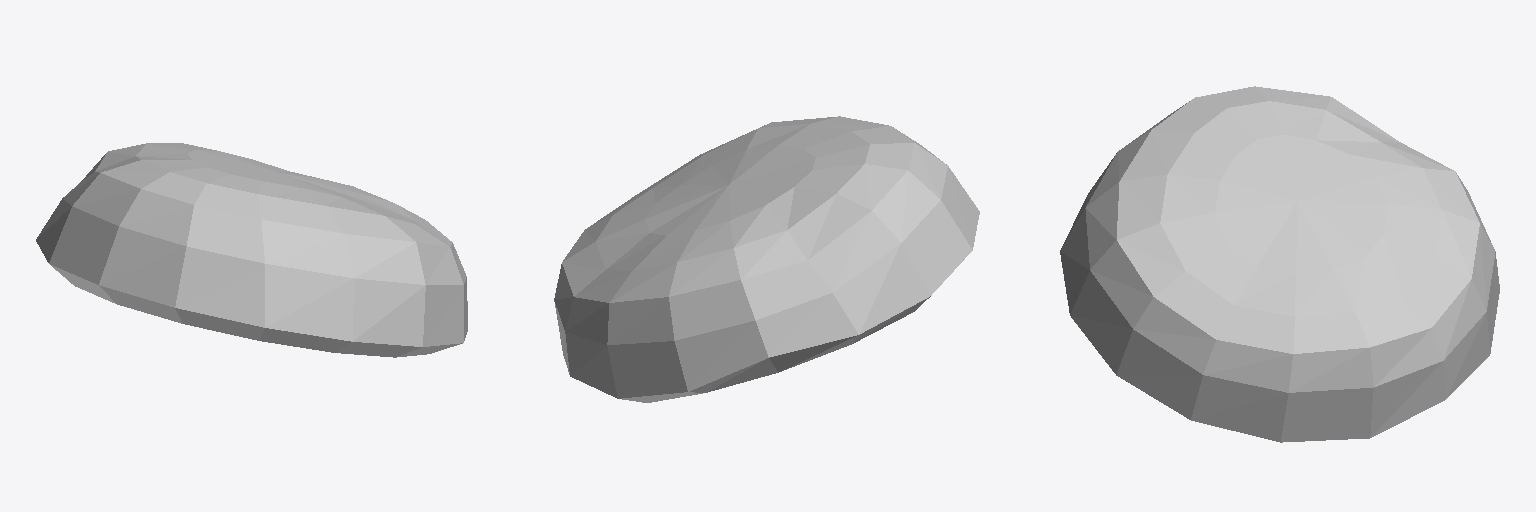
The model's file is shroomTop3.obj.
The picture shows the model from 3 angles: view 1: azimuth 30°, elevation 25°; view 2: azimuth 150°, elevation 25°; view 3: azimuth 270°, elevation 25°; orthographic projection.
Parts seen in each view (by area): view 1: shroomTop3; view 2: shroomTop3; view 3: shroomTop3.
Boxes of the visible parts, box(x1,y1,x2,y2) form: shroomTop3: box(36, 143, 467, 357); shroomTop3: box(554, 116, 979, 402); shroomTop3: box(1060, 86, 1499, 442).
Bounding box in the file's own units: 18.7 × 10.7 × 19.27.